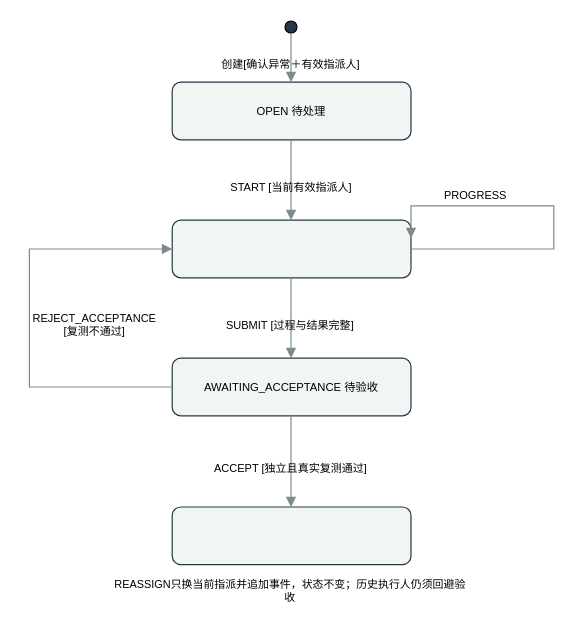
Some shapes in this 584 by 623 pixel diagram are drawn without their labels. Here are the shapes that lost their labels. From the top down, the centre of each, then its label:
the point at 291,248: IN_PROGRESS 处理中
the point at 291,535: CLOSED 已关闭
